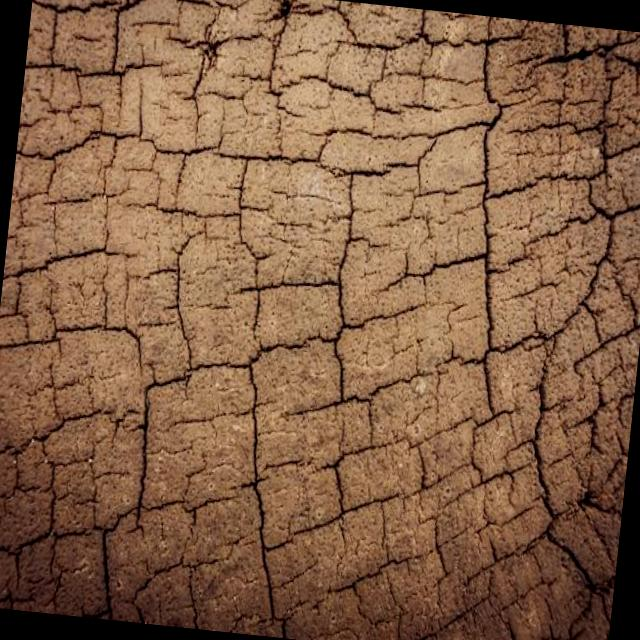suelo_seco: (175, 64, 488, 575)
